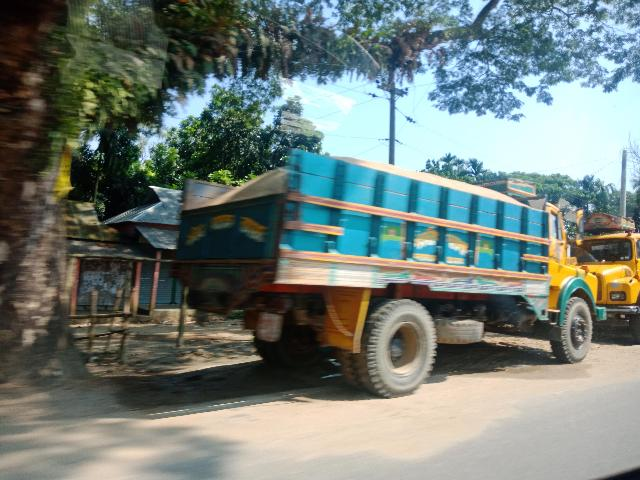truck: (172, 139, 589, 378), (573, 203, 640, 339)
